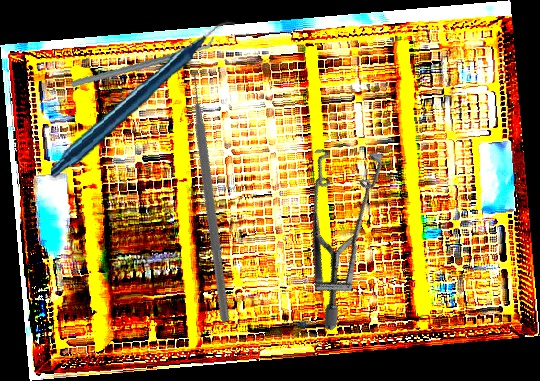Chopper: (89, 59, 345, 324), (71, 18, 215, 106)
Handpiece: (39, 18, 247, 180)
Speculum: (232, 119, 440, 333)
